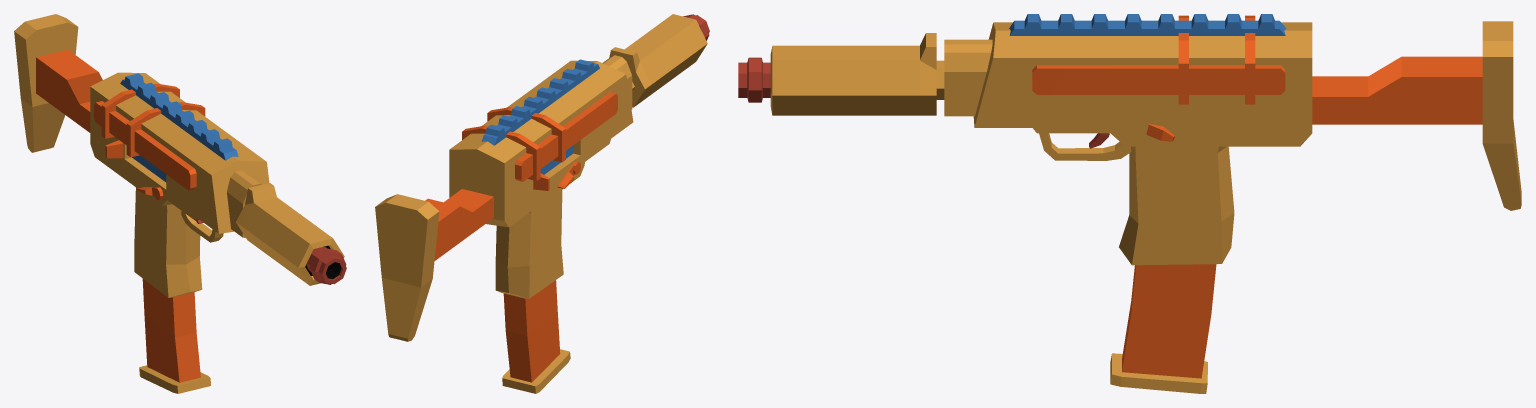
Rendered from SM_Wep_ToyGun_SMG_01.glb.
3 views of the same model, side by side, from view 1: azimuth 30°, elevation 25°; view 2: azimuth 150°, elevation 25°; view 3: azimuth 270°, elevation 25° (orthographic). The views are drawn at different scales.
Visible parts, largest first — view 1: SM_Wep_ToyGun_SMG_01; view 2: SM_Wep_ToyGun_SMG_01; view 3: SM_Wep_ToyGun_SMG_01.
Boxes of the visible parts, x1,y1,x2,y2 form: SM_Wep_ToyGun_SMG_01: (14,14,346,393); SM_Wep_ToyGun_SMG_01: (375,14,709,393); SM_Wep_ToyGun_SMG_01: (738,14,1521,393).
Bounding box in the file's own units: 0.0966 × 0.3274 × 0.6356.
4 materials, 4 textured.
